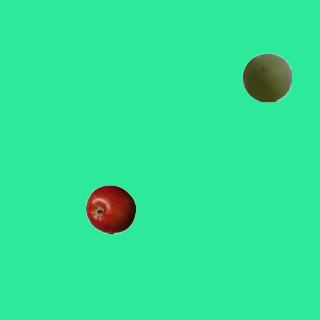Apple Braeburn: (85, 184, 135, 234)
Grape White 4: (241, 52, 291, 102)
